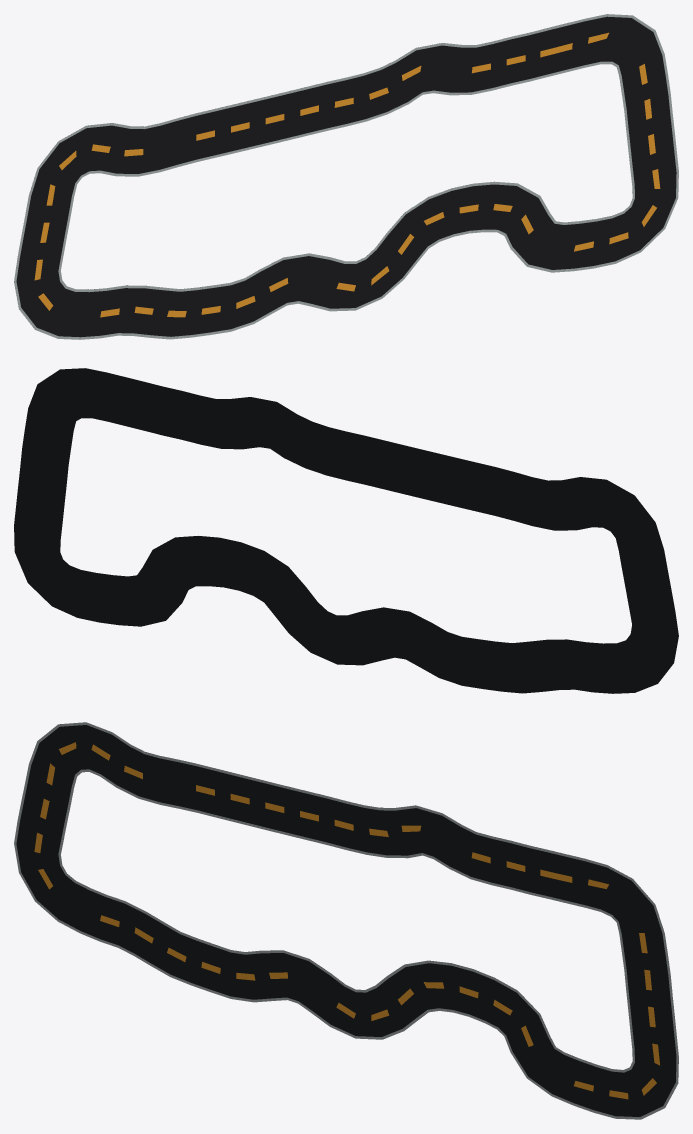
File: track.obj
The picture shows the model from 3 angles, top to bottom: view 1: azimuth 30°, elevation 25°; view 2: azimuth 150°, elevation 25°; view 3: azimuth 330°, elevation 25°; orthographic projection.
Bounding box in the file's own units: 10.82 × 4.16 × 0.002.
